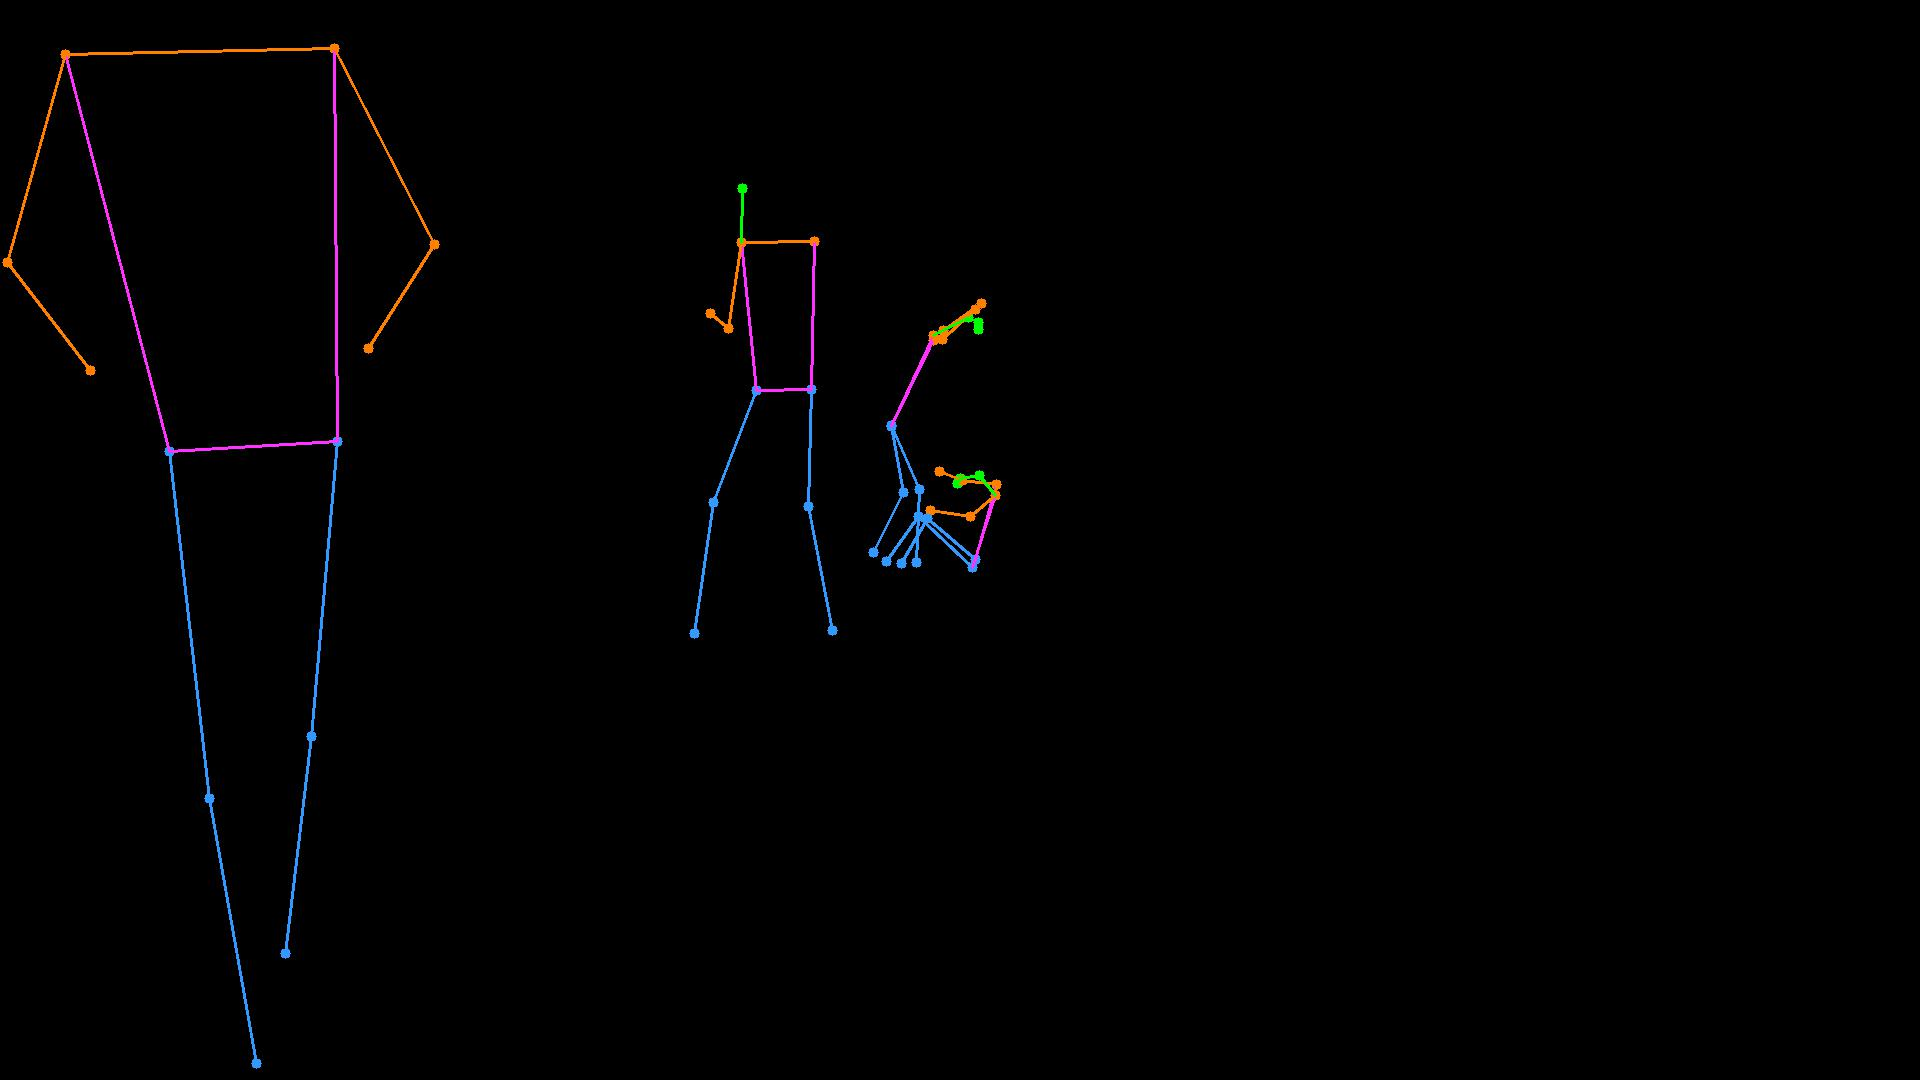normal: (1, 22, 483, 1080), (655, 166, 862, 659)
